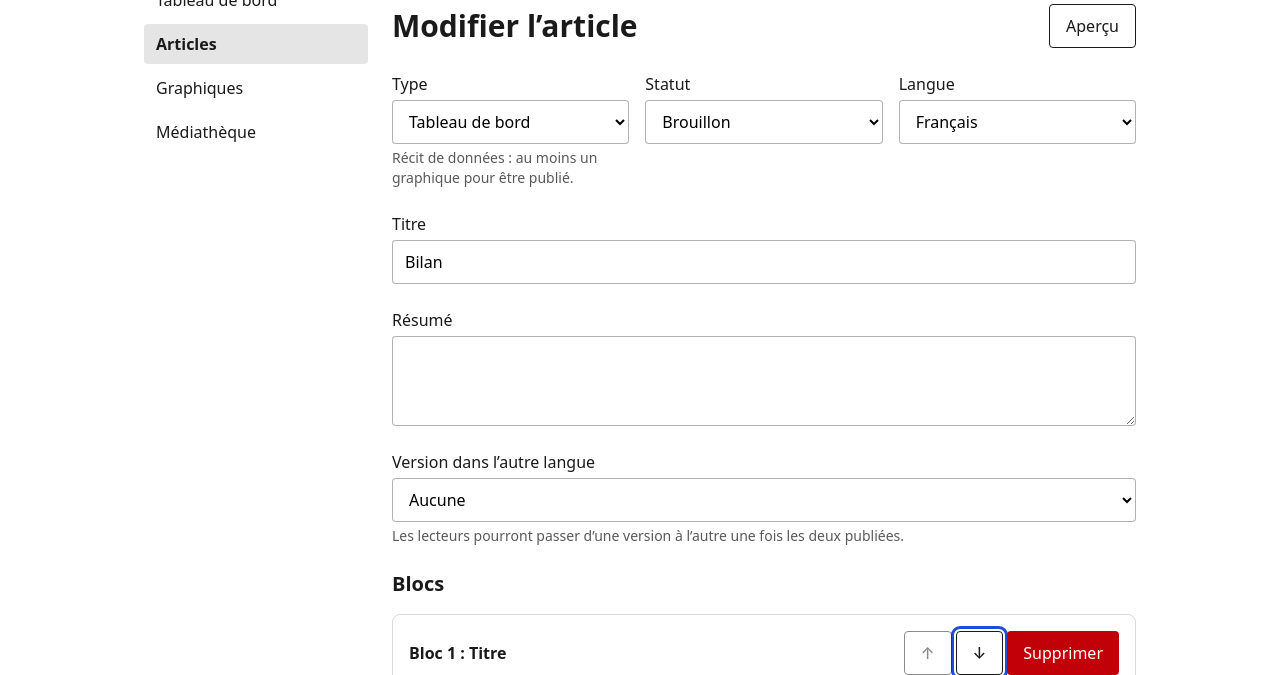
Test: article editor › reorders blocks with the keyboard and keeps their ids
This screenshot has width=1280, height=675.
(page scrolled)
Press Enter
(page scrolled)
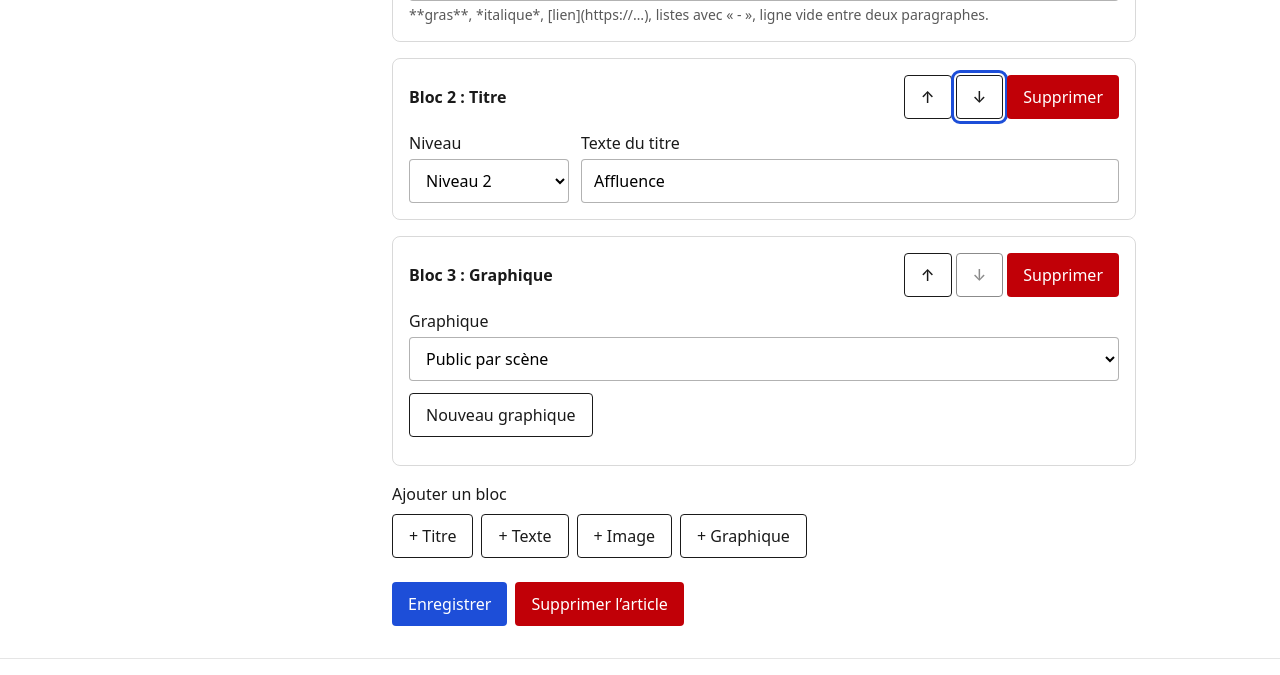
Click the button with aria-label "Supprimer le bloc 3" at (1063, 275), box [1007,253,1119,297]
(page scrolled)
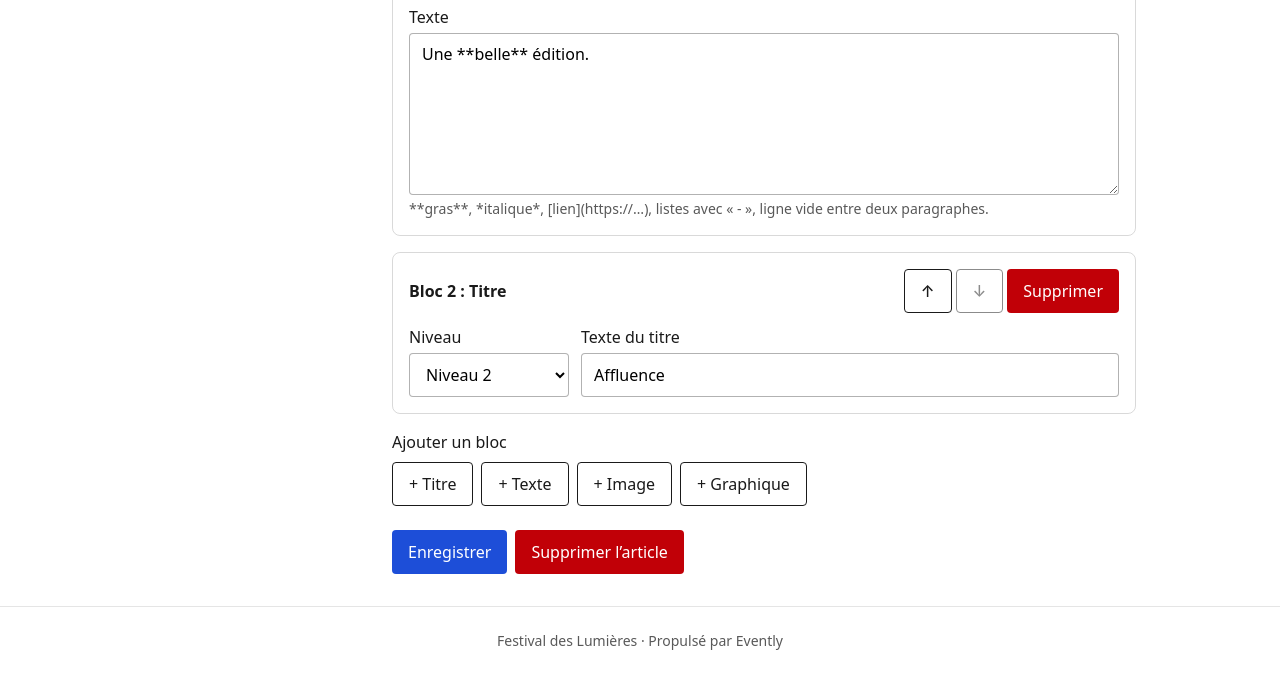
Click the button "Enregistrer" at (450, 552), box [392,530,507,574]
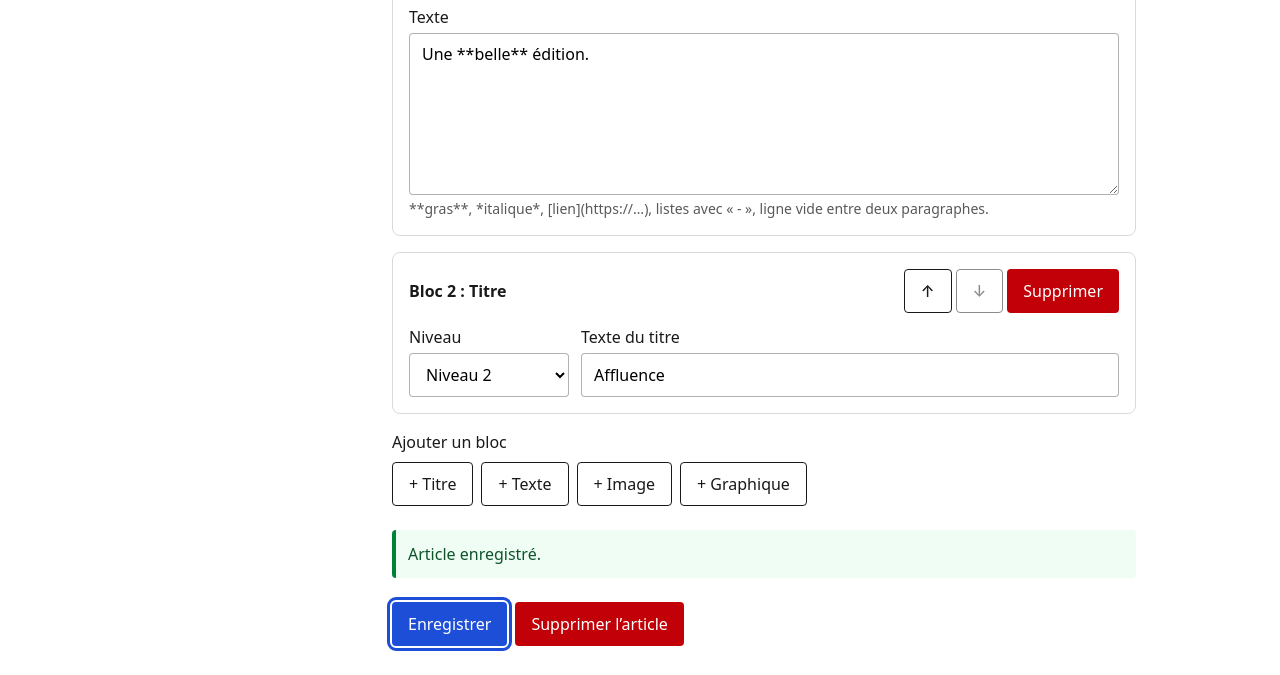
Expected: the text "Article enregistré." is shown, [392,530,1136,578]
